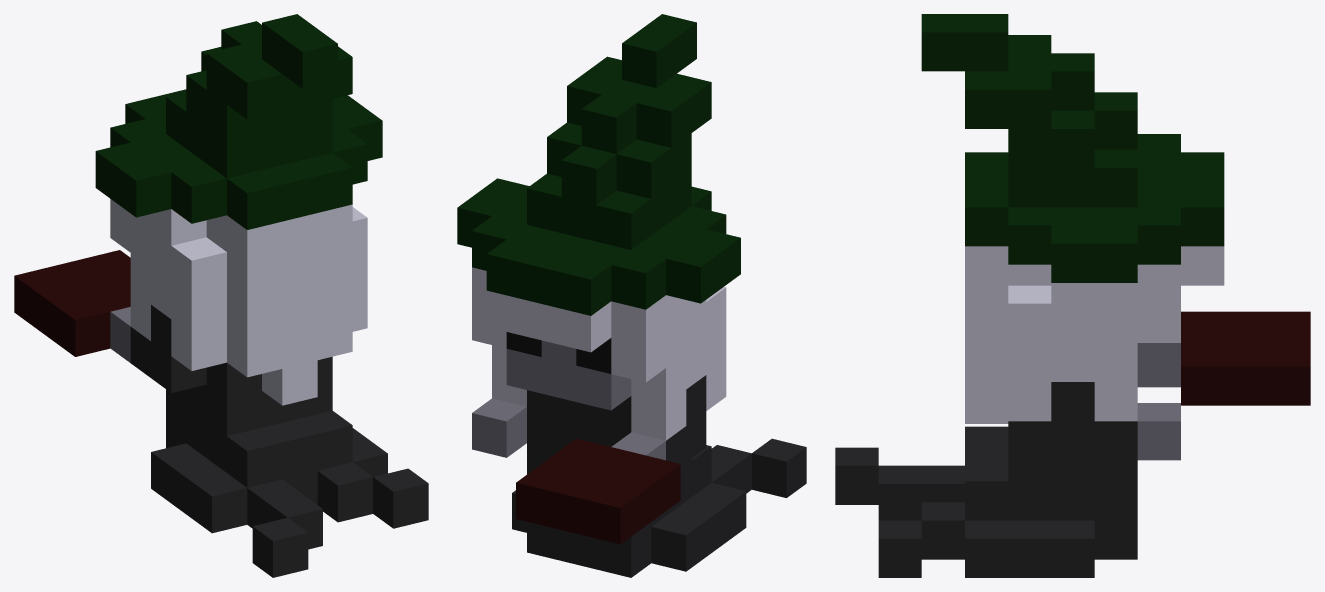
Rendered from Small_Witch_vox.obj.
3 views of the same model, side by side, from view 1: azimuth 30°, elevation 25°; view 2: azimuth 150°, elevation 25°; view 3: azimuth 270°, elevation 25° (orthographic). The views are drawn at different scales.
Bounding box in the file's own units: 0.7 × 1.3 × 1.1.
Materials: 1 (1 with a texture image).
